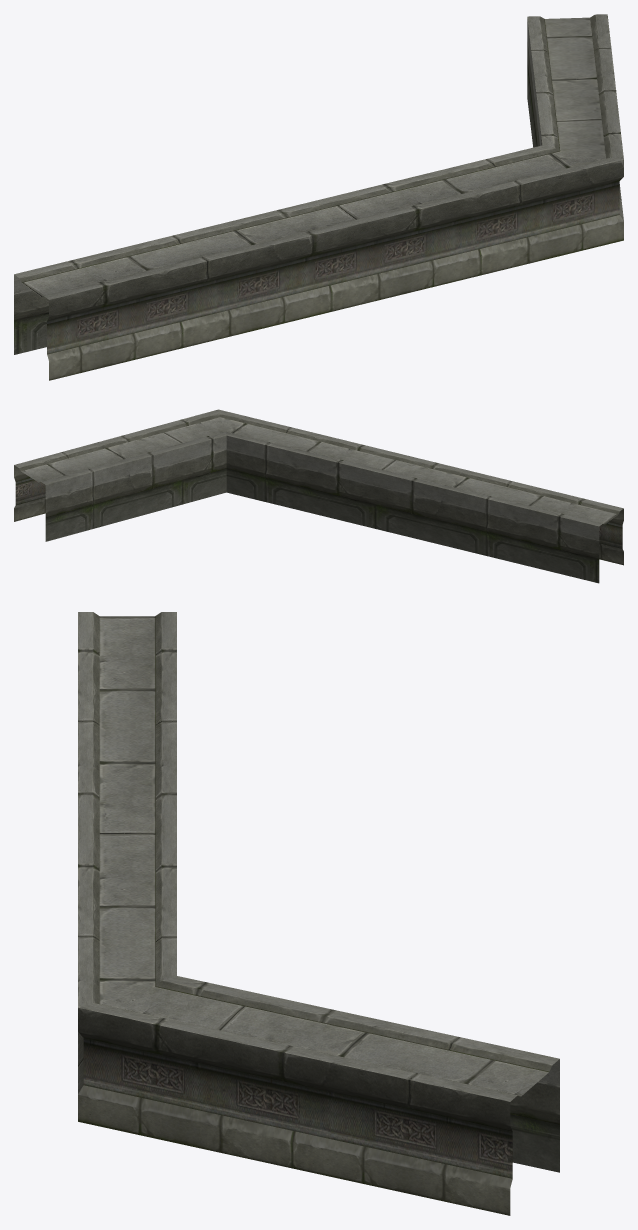
The model's file is JiaYeSi_HuaTai_1.FBX.
3 renders of one model, top to bottom at view 1: azimuth 30°, elevation 25°; view 2: azimuth 150°, elevation 25°; view 3: azimuth 270°, elevation 25°, orthographic. The views are drawn at different scales.
Parts seen in each view (by area): view 1: JiaYeSi_HuaTai_1; view 2: JiaYeSi_HuaTai_1; view 3: JiaYeSi_HuaTai_1.
Boxes of the visible parts, x1,y1,x2,y2 form: JiaYeSi_HuaTai_1: [14, 14, 623, 380]; JiaYeSi_HuaTai_1: [14, 409, 623, 583]; JiaYeSi_HuaTai_1: [78, 612, 559, 1215].
Size of the model in its own units: 1452 by 158 by 604.
